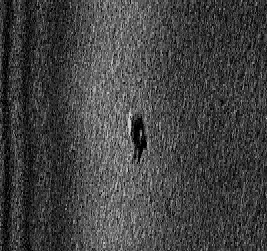mine: (125, 108, 148, 163)
